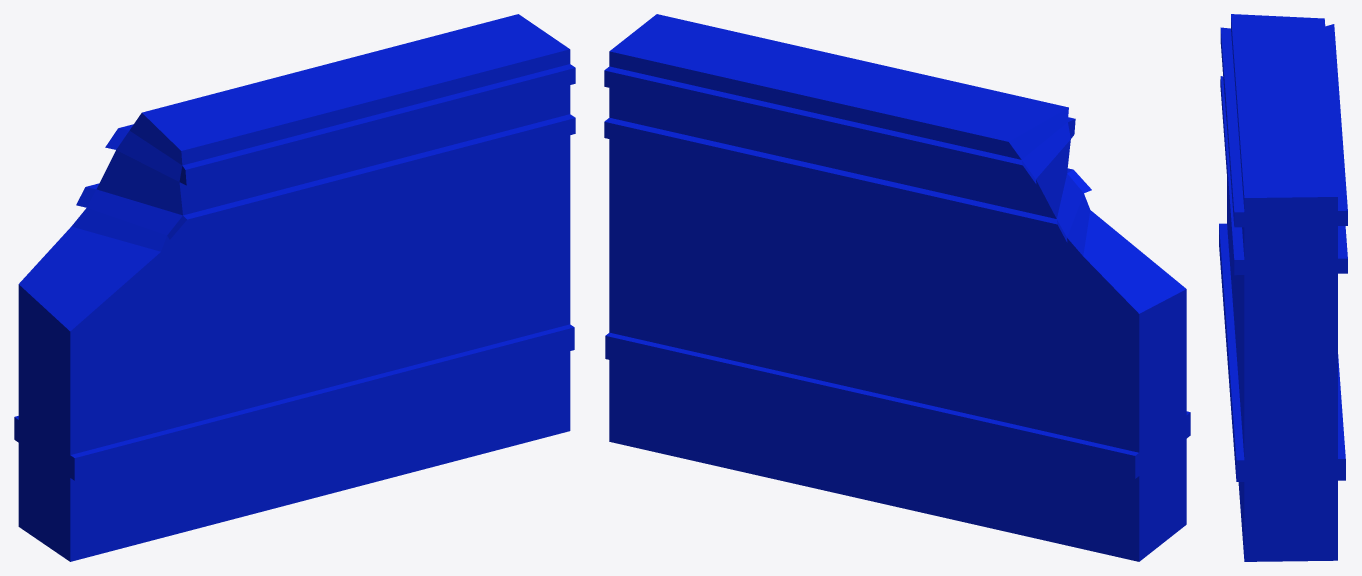
The model's file is MDL_E_TempleWall_02.fbx.
The picture shows the model from 3 angles, left to right: view 1: azimuth 30°, elevation 25°; view 2: azimuth 150°, elevation 25°; view 3: azimuth 270°, elevation 25°; orthographic projection. The views are drawn at different scales.
Visible parts, largest first — view 1: Cube.041; view 2: Cube.041; view 3: Cube.041.
Part boxes in pixels (x1,y1,x2,y2): Cube.041: (14, 14, 575, 561); Cube.041: (604, 14, 1190, 561); Cube.041: (1219, 14, 1347, 561).
Bounding box in the file's own units: 805 × 573 × 184.
